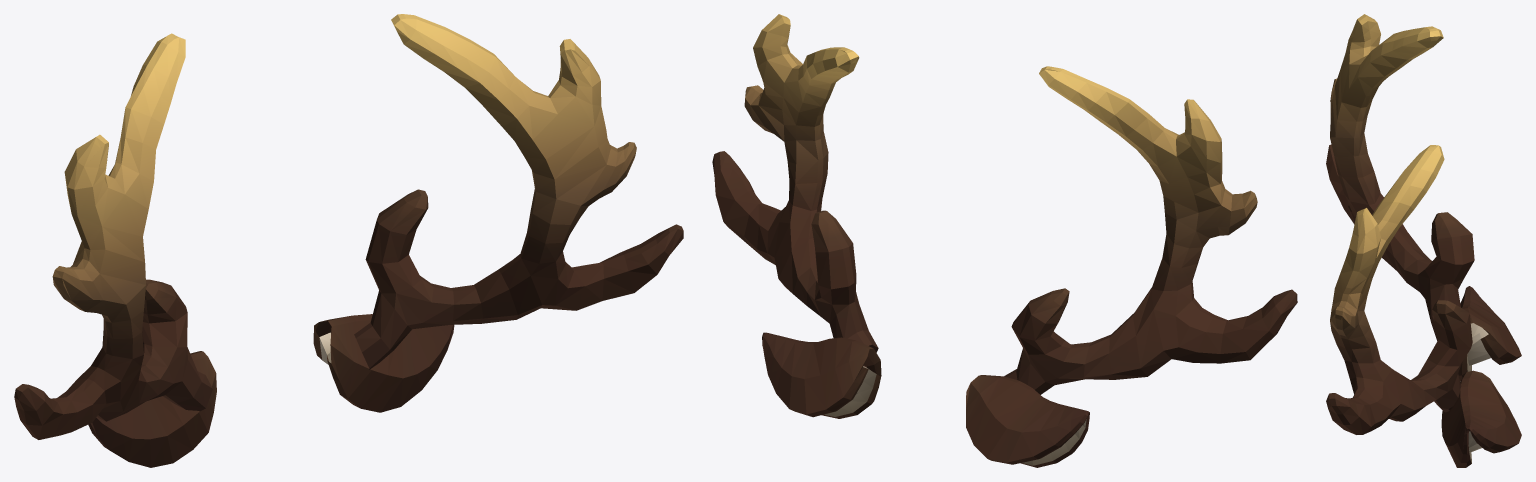
File: CharSkyKid_Horn_Elk.glb
3 renders of one model, left to right at view 1: azimuth 30°, elevation 25°; view 2: azimuth 150°, elevation 25°; view 3: azimuth 270°, elevation 25°, orthographic. The views are drawn at different scales.
Parts seen in each view (by area): view 1: CharSkyKid_Horn_Elk; view 2: CharSkyKid_Horn_Elk; view 3: CharSkyKid_Horn_Elk.
Boxes of the visible parts, x1,y1,x2,y2 form: CharSkyKid_Horn_Elk: [14, 14, 683, 467]; CharSkyKid_Horn_Elk: [712, 14, 1297, 467]; CharSkyKid_Horn_Elk: [1326, 14, 1521, 467].
Size of the model in its own units: 7.36 by 4.65 by 2.39.
Materials: 1 (1 with a texture image).
